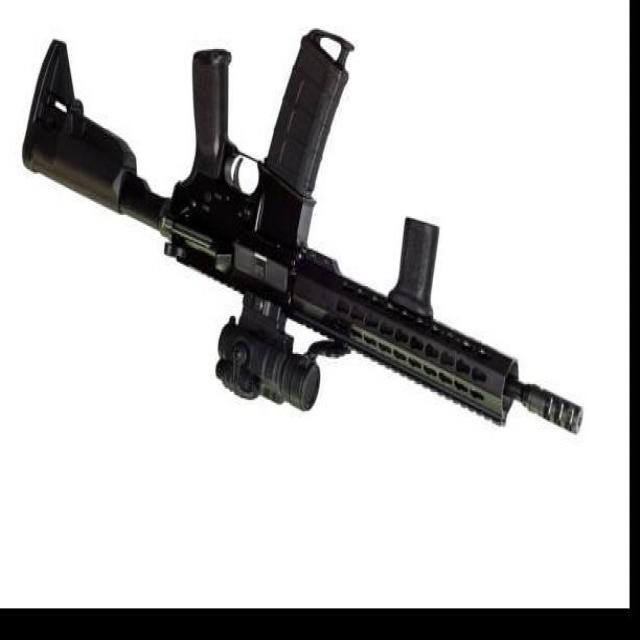weapon: (21, 28, 585, 437)
